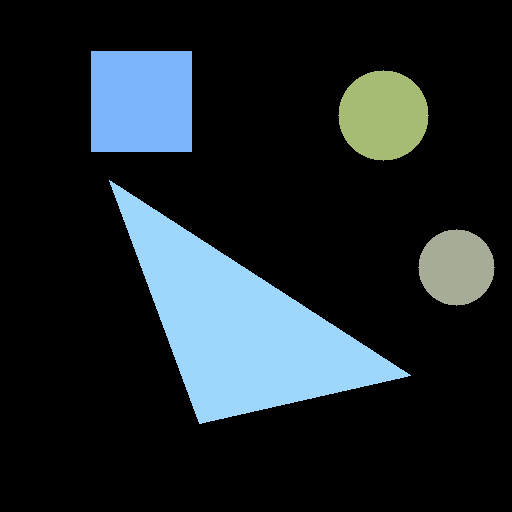circle: (338, 70, 428, 160), (418, 229, 494, 305)
square: (91, 51, 191, 151)
triangle: (109, 180, 410, 423)
